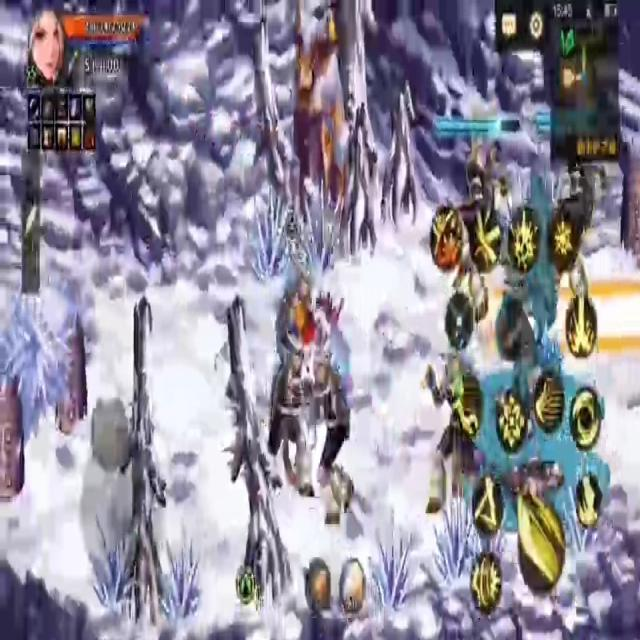player: (295, 297, 352, 395)
